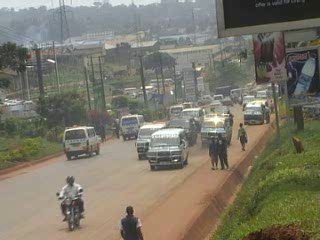Car: (210, 104, 232, 115), (207, 98, 222, 108), (220, 95, 232, 105)
Motorcycle: (54, 173, 88, 232)
